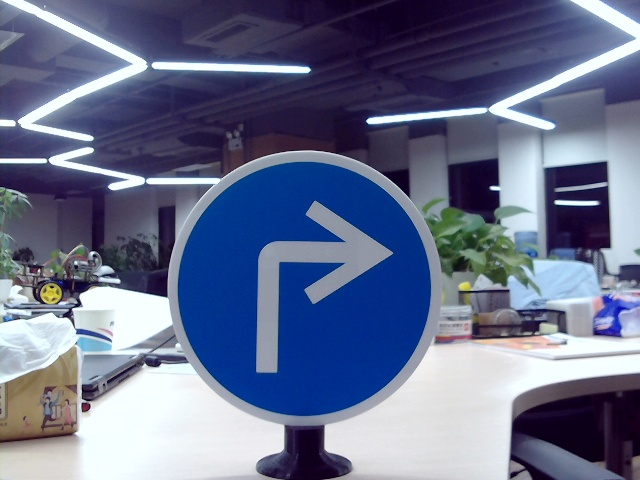turn_right: (248, 193, 393, 376)
